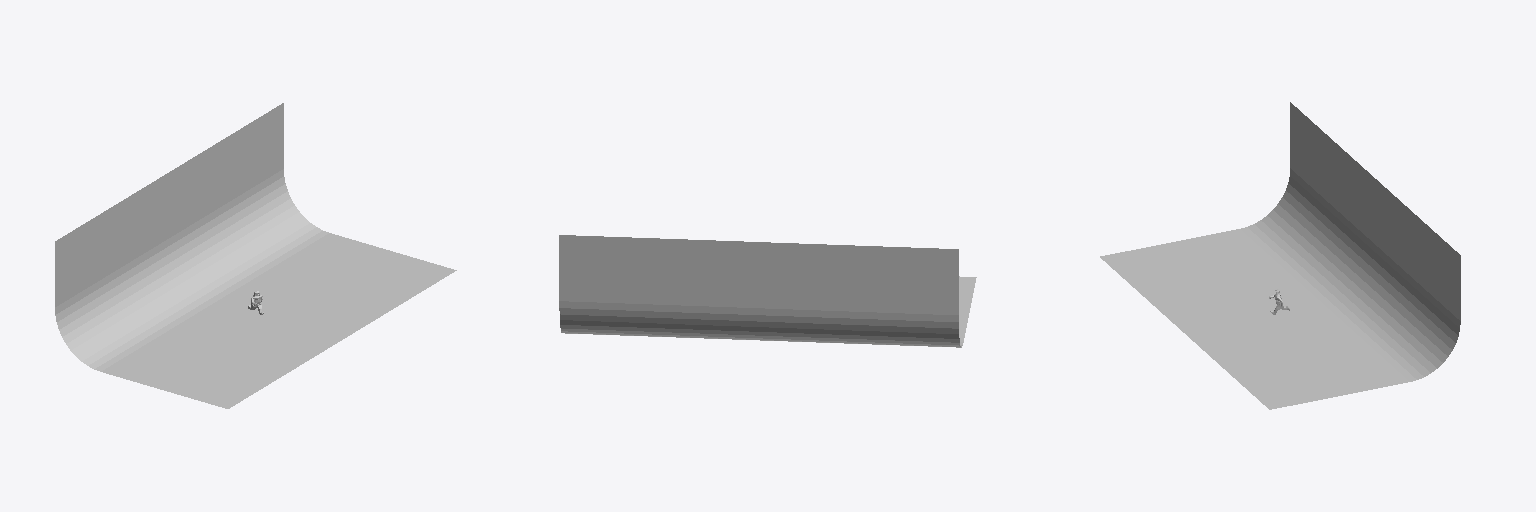
The model's file is Man01.obj.
3 renders of one model, left to right at view 1: azimuth 30°, elevation 25°; view 2: azimuth 150°, elevation 25°; view 3: azimuth 270°, elevation 25°, orthographic.
Parts seen in each view (by area): view 1: Plane; view 2: Plane; view 3: Plane.
Boxes of the visible parts, <box> form: Plane: <box>55,103,456,408</box>; Plane: <box>559,235,976,347</box>; Plane: <box>1100,102,1460,409</box>.
Bounding box in the file's own units: 105 × 29.81 × 83.63.